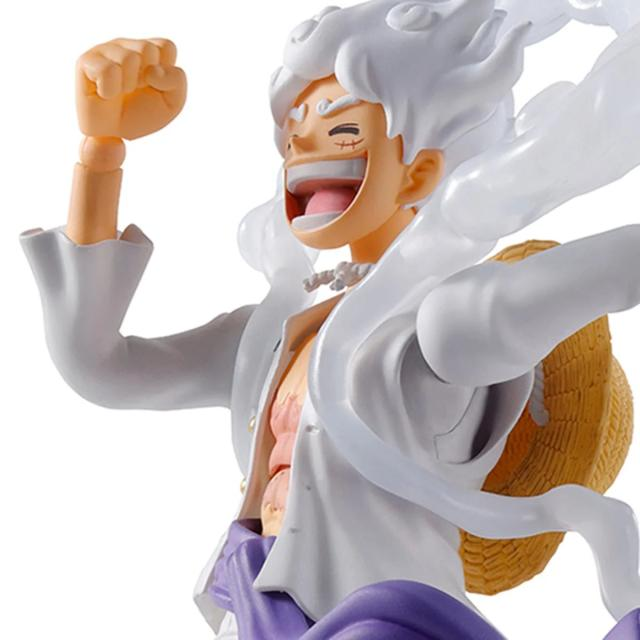luffy: (39, 11, 639, 640)
